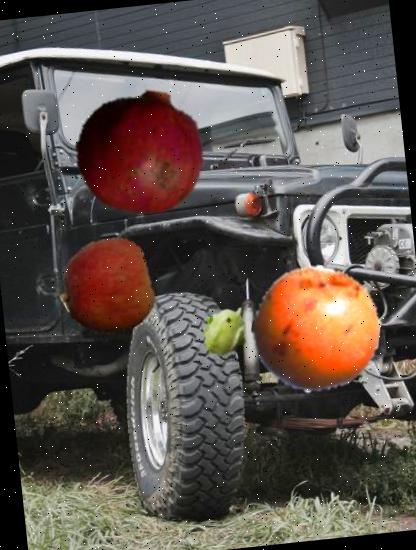Granadilla: (245, 258, 387, 401)
Kohlrabi: (195, 300, 258, 362)
Peach: (56, 234, 162, 340)
Pomegranate: (68, 79, 212, 223)
